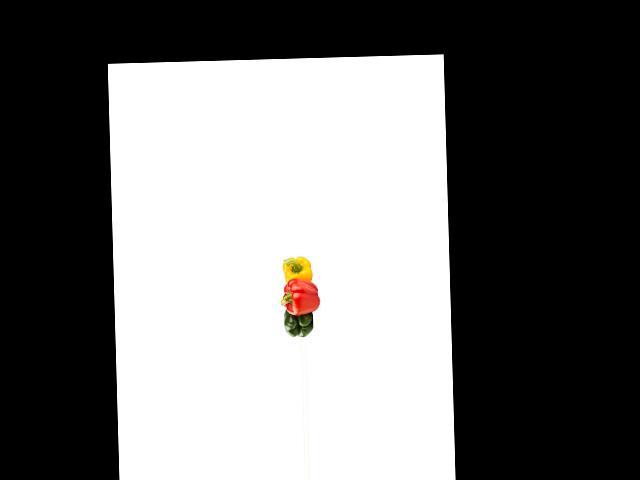bell_pepper: (279, 254, 318, 285)
